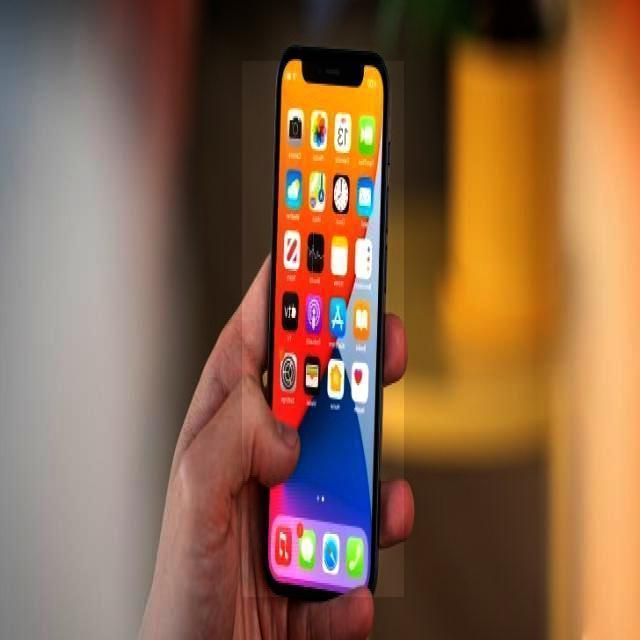mobile: (242, 61, 404, 597)
